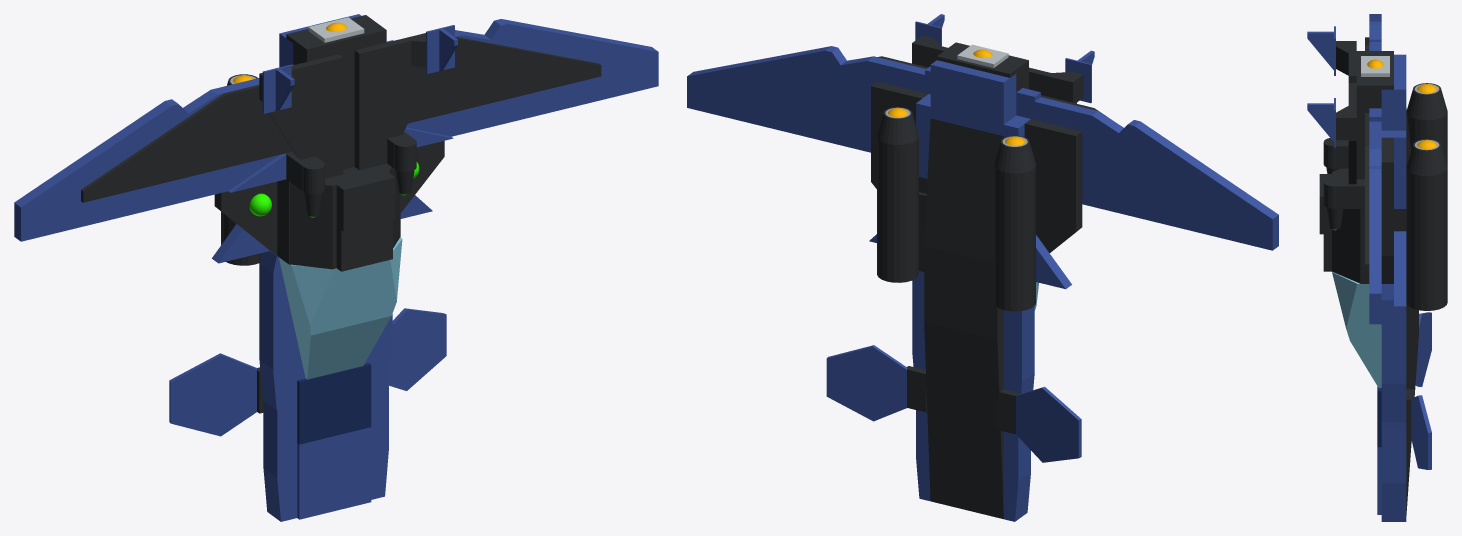
The model's file is tinker.obj.
3 views of the same model, side by side, from view 1: azimuth 30°, elevation 25°; view 2: azimuth 150°, elevation 25°; view 3: azimuth 270°, elevation 25° (orthographic). The views are drawn at different scales.
Parts seen in each view (by area): view 1: group_0_3888547, group_0_2829873, group_0_8768998, group_0_1650274, group_0_12568524; view 2: group_0_3888547, group_0_2829873; view 3: group_0_2829873, group_0_3888547, group_0_8768998, group_0_12568524, group_0_16758016, group_0_1650274.
Part boxes in pixels (left/top/right/bottom): group_0_3888547: left=14, top=14, right=658, bottom=521; group_0_2829873: left=81, top=15, right=601, bottom=413; group_0_8768998: left=279, top=237, right=402, bottom=379; group_0_1650274: left=297, top=363, right=371, bottom=444; group_0_12568524: left=308, top=17, right=364, bottom=42; group_0_3888547: left=687, top=14, right=1278, bottom=521; group_0_2829873: left=871, top=35, right=1106, bottom=518; group_0_2829873: left=1319, top=37, right=1447, bottom=515; group_0_3888547: left=1307, top=14, right=1431, bottom=521; group_0_8768998: left=1332, top=272, right=1381, bottom=387; group_0_12568524: left=1361, top=56, right=1389, bottom=76; group_0_16758016: left=1367, top=59, right=1436, bottom=148; group_0_1650274: left=1377, top=386, right=1381, bottom=447.
Bounding box in the file's own units: 160 × 117 × 34.
